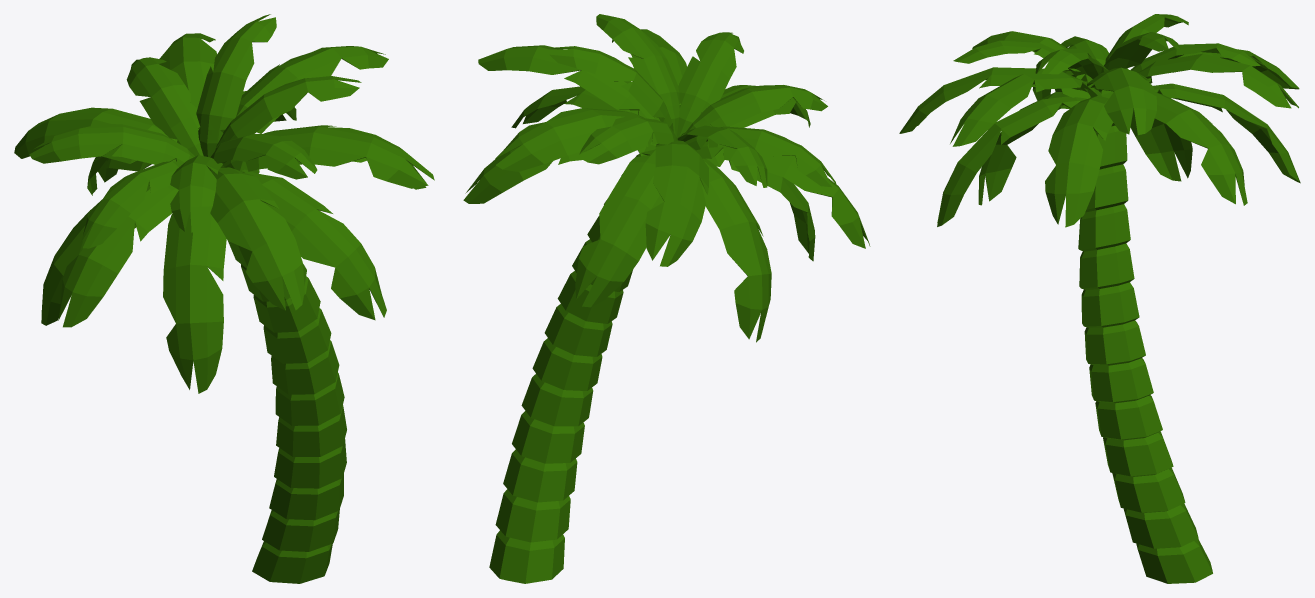
File: Tree_002.fbx
The picture shows the model from 3 angles, left to right: view 1: azimuth 30°, elevation 25°; view 2: azimuth 150°, elevation 25°; view 3: azimuth 270°, elevation 25°; orthographic projection. The views are drawn at different scales.
Visible parts, largest first — view 1: Tree_002; view 2: Tree_002; view 3: Tree_002.
Part boxes in pixels (box(x1,y1,x2,y2)): Tree_002: box(14, 14, 434, 583); Tree_002: box(463, 14, 870, 583); Tree_002: box(899, 14, 1300, 583).
Bounding box in the file's own units: 353 × 511 × 360.
